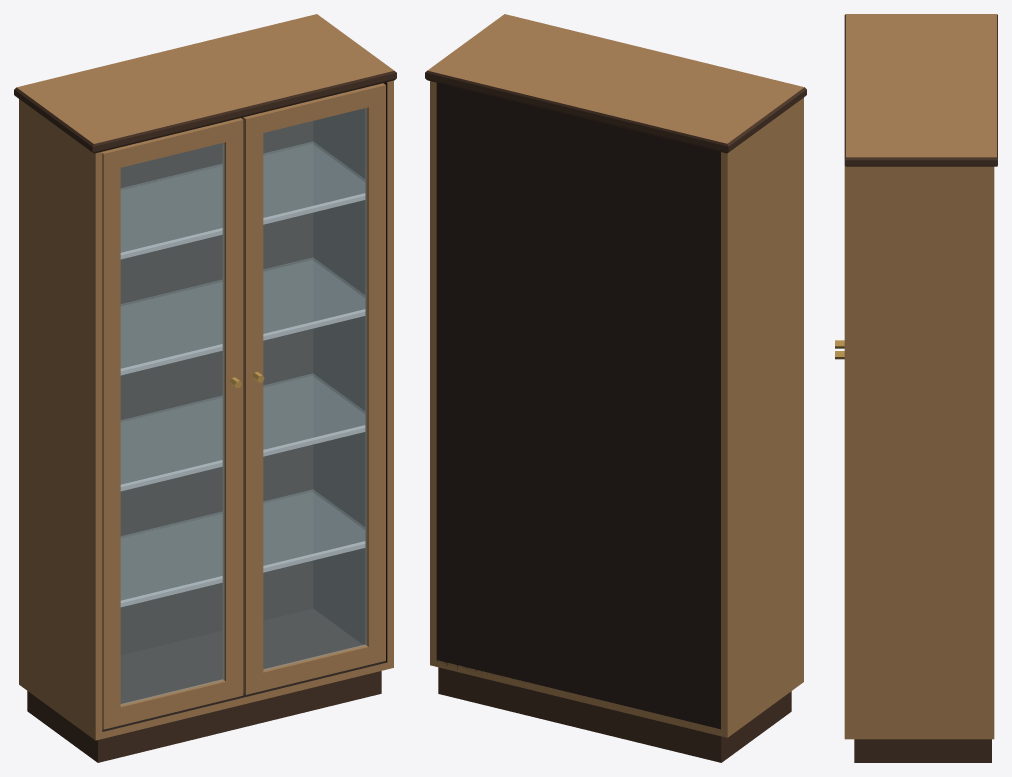
The model's file is FN_Cabinet_Display.obj.
The picture shows the model from 3 angles, left to right: view 1: azimuth 30°, elevation 25°; view 2: azimuth 150°, elevation 25°; view 3: azimuth 270°, elevation 25°; orthographic projection. The views are drawn at different scales.
Visible parts, largest first — view 1: FN_Cabinet_Display; view 2: FN_Cabinet_Display; view 3: FN_Cabinet_Display.
Part boxes in pixels (x1,y1,x2,y2): FN_Cabinet_Display: (14, 14, 396, 762); FN_Cabinet_Display: (425, 14, 806, 762); FN_Cabinet_Display: (835, 14, 997, 762).
Bounding box in the file's own units: 0.918 × 1.8 × 0.436.
2 materials, 1 textured.
